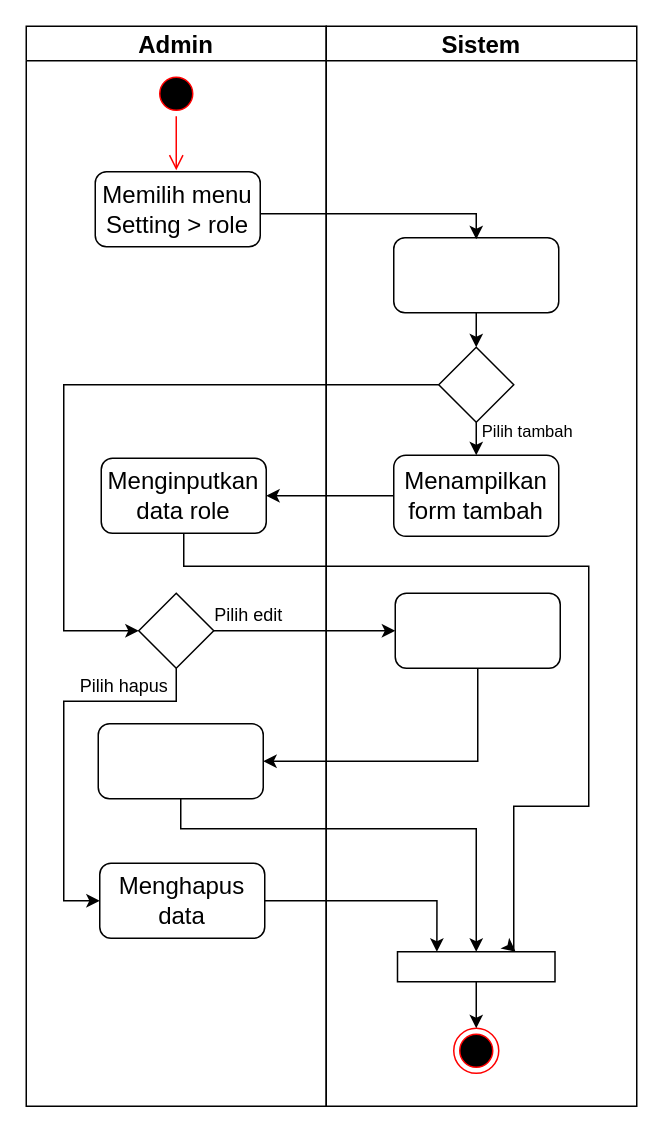
The diagram is 663 pixels wide and 1133 high, and some of its shapes have lost their labels. The centre of each missing label's shape, as x and y in pixels:
Menampilkan data role: pixel 475 274
Menampilkan form edit: pixel 477 630
Mengubah data: pixel 180 760
